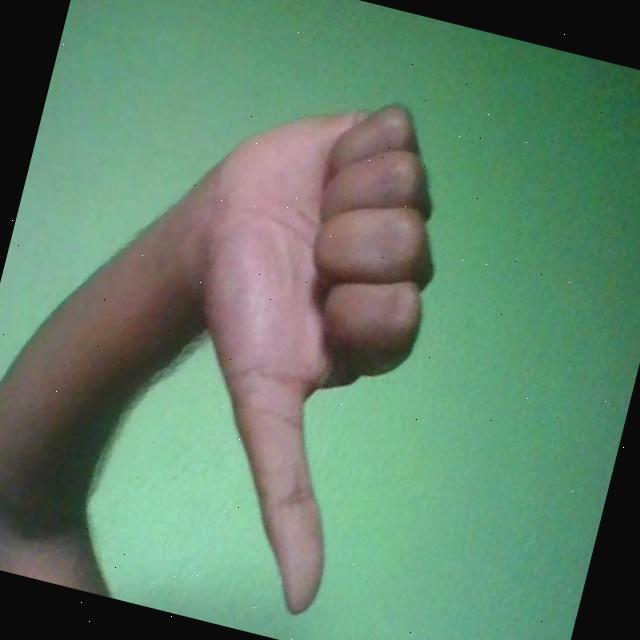Dislike: (115, 66, 472, 628)
